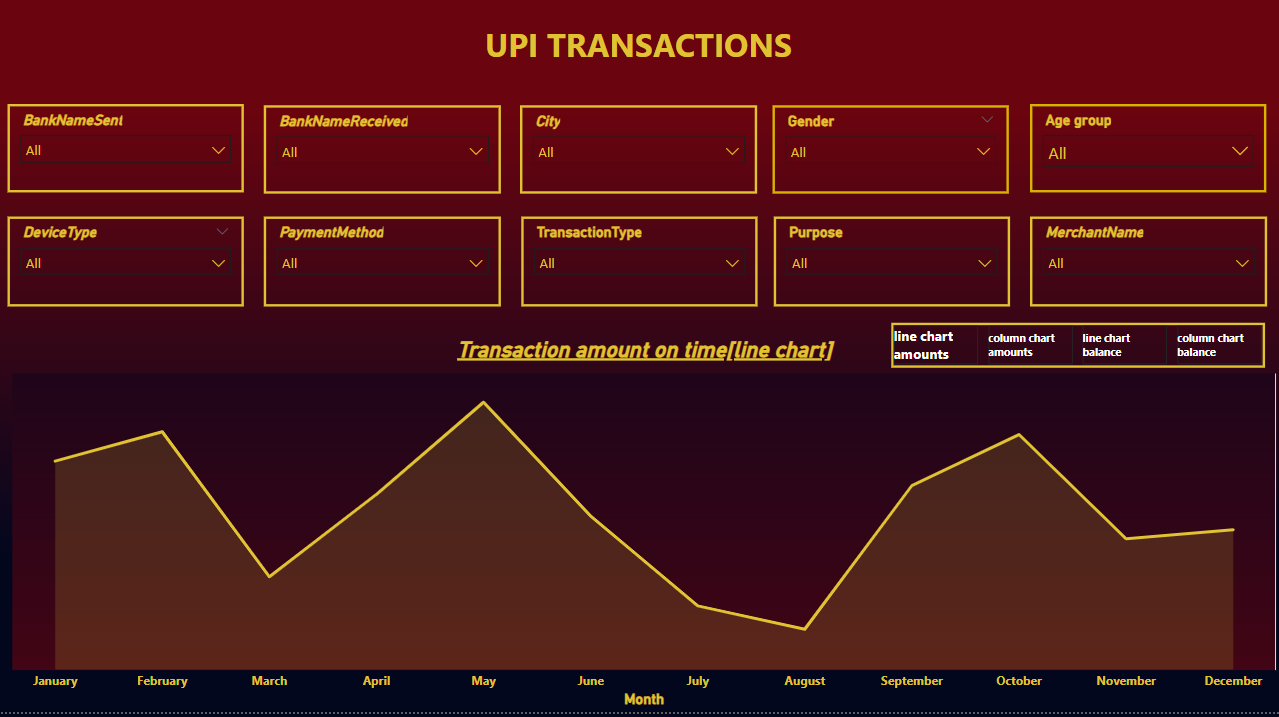

The page's visual inventory and layout, read from the dashboard file:
{"tool":"powerbi","page":{"name":"Page 1","canvas":[1280,720],"ordinal":0},"visuals":[{"type":"slicer","fields":{"Values":["Sheet1.BankNameSent"]},"box":[12.4,114.4,235.1,88.3],"z":0},{"type":"slicer","fields":{"Values":["Sheet1.BankNameReceived"]},"box":[267.5,115.7,236.4,88.3],"z":1000},{"type":"slicer","fields":{"Values":["Sheet1.City"]},"box":[522.5,115.7,236.4,88.3],"z":2000},{"type":"slicer","fields":{"Values":["Sheet1.Gender"]},"box":[773.7,115.7,235.1,88.3],"z":3000},{"type":"slicer","fields":{"Values":["Sheet1.DeviceType"]},"box":[12.4,226.4,235.1,89.6],"z":4000},{"type":"slicer","fields":{"Values":["Sheet1.PaymentMethod"]},"box":[267.5,226.4,236.4,89.6],"z":5000},{"type":"slicer","fields":{"Values":["Sheet1.Purpose"]},"box":[775,226.4,235.1,89.6],"z":6000},{"type":"slicer","fields":{"Values":["Sheet1.MerchantName"]},"box":[1030,226.4,236.4,89.6],"z":7000},{"type":"textbox","box":[0,16.2,1280,70.9],"z":8000},{"type":"slicer","fields":{"Values":["Sheet1.Age group"]},"box":[1030,114.4,235.1,88.3],"z":10000},{"type":"bookmarkNavigator","box":[891.8,332.5,372.3,45],"z":12000},{"type":"columnChart","title":"Balance by month[column chart]","fields":{"Category":["Sheet1.TransactionDate.Variation.Date Hierarchy.Month"],"Y":["Sum(Sheet1.Amount)"]},"box":[12.4,345.8,1267.6,374.4],"z":14000},{"type":"slicer","fields":{"Values":["Sheet1.TransactionType"]},"box":[523.7,226.4,235.1,89.6],"z":15000}]}

Visuals, with their boxes in screenshot pixels (x1, y1, x2, y2), scaled from the page's 1280x720 canvas onto the 1279x717 screenshot:
slicer - Sheet1.BankNameSent: [left=12, top=114, right=247, bottom=202]
slicer - Sheet1.BankNameReceived: [left=267, top=115, right=504, bottom=203]
slicer - Sheet1.City: [left=522, top=115, right=758, bottom=203]
slicer - Sheet1.Gender: [left=773, top=115, right=1008, bottom=203]
slicer - Sheet1.DeviceType: [left=12, top=225, right=247, bottom=315]
slicer - Sheet1.PaymentMethod: [left=267, top=225, right=504, bottom=315]
slicer - Sheet1.Purpose: [left=774, top=225, right=1009, bottom=315]
slicer - Sheet1.MerchantName: [left=1029, top=225, right=1265, bottom=315]
textbox: [left=0, top=16, right=1278, bottom=87]
slicer - Sheet1.Age group: [left=1029, top=114, right=1264, bottom=202]
bookmarkNavigator: [left=891, top=331, right=1263, bottom=376]
"Balance by month[column chart]" columnChart: [left=12, top=344, right=1278, bottom=716]
slicer - Sheet1.TransactionType: [left=523, top=225, right=758, bottom=315]
